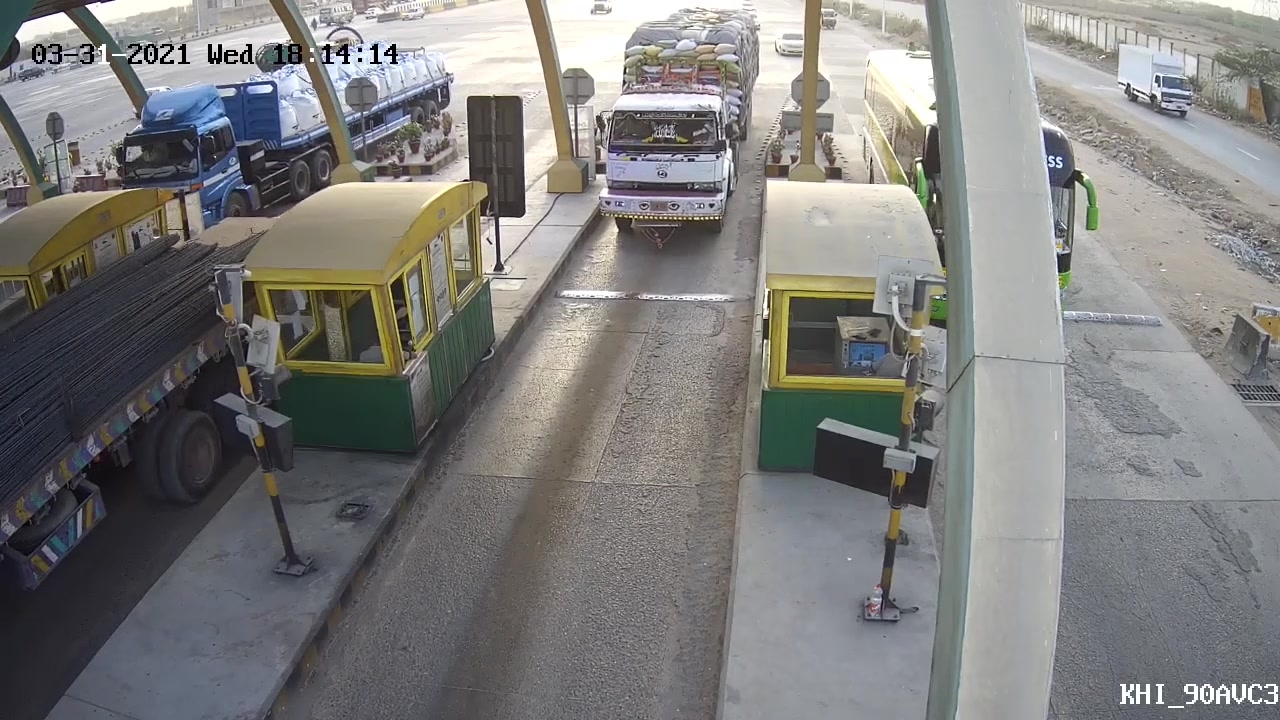F6: (587, 4, 763, 255)
